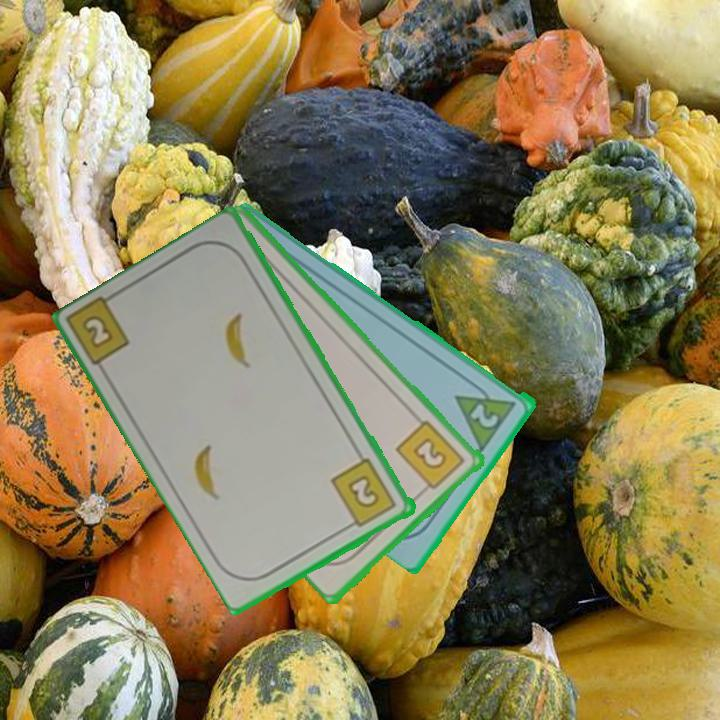2b: (393, 416, 469, 497), (328, 455, 400, 532), (78, 311, 117, 352)
2p: (452, 375, 520, 452)
